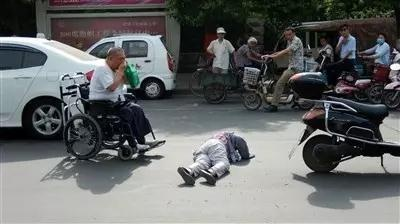falling: (172, 123, 258, 189)
